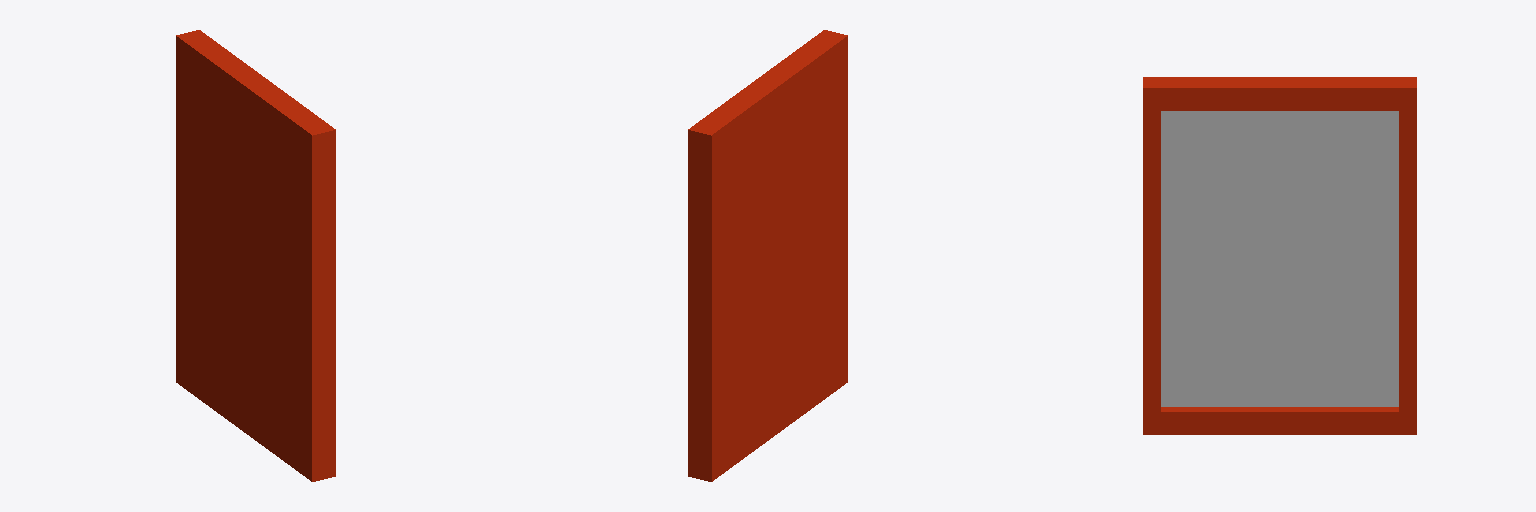
File: frame.obj
The picture shows the model from 3 angles: view 1: azimuth 30°, elevation 25°; view 2: azimuth 150°, elevation 25°; view 3: azimuth 270°, elevation 25°; orthographic projection.
Parts seen in each view (by area): view 1: Cube; view 2: Cube; view 3: Cube.
Part boxes in pixels (bbox=[...]): Cube: bbox=[176, 30, 335, 481]; Cube: bbox=[688, 30, 847, 481]; Cube: bbox=[1143, 77, 1416, 434].
Bounding box in the file's own units: 0.1 × 1.4 × 1.